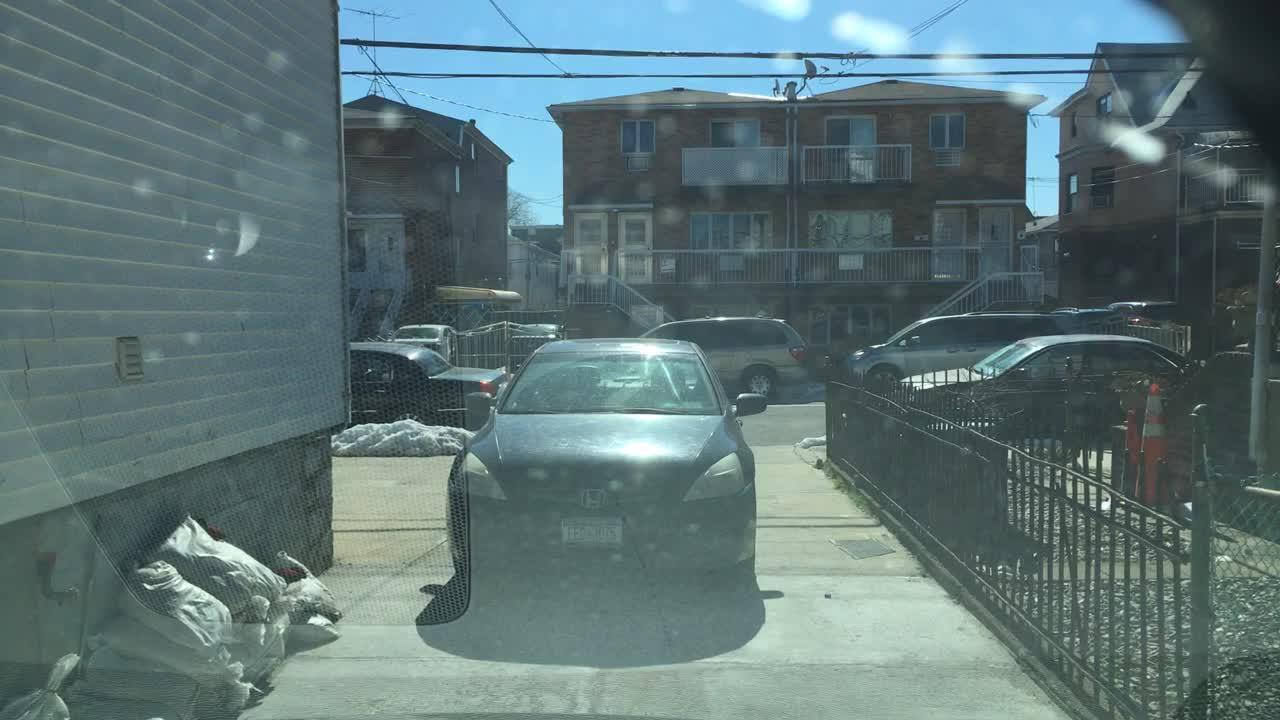Honda: (570, 481, 613, 522)
